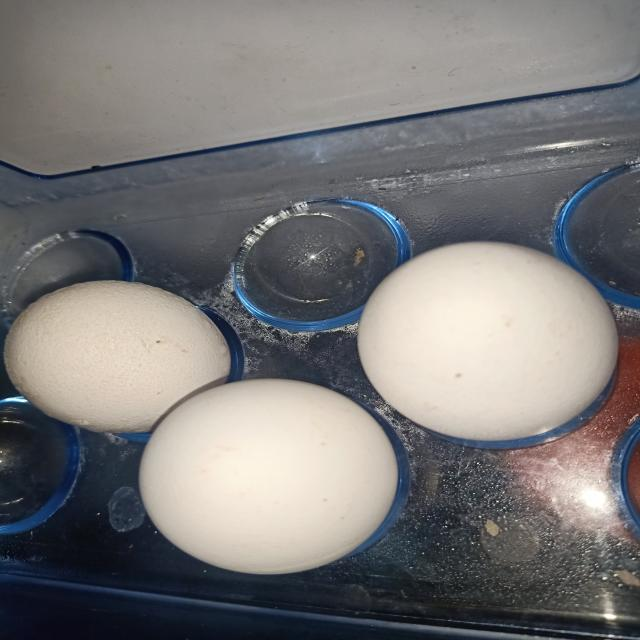Egg: (358, 242, 619, 441), (138, 379, 398, 575), (3, 281, 230, 433)
